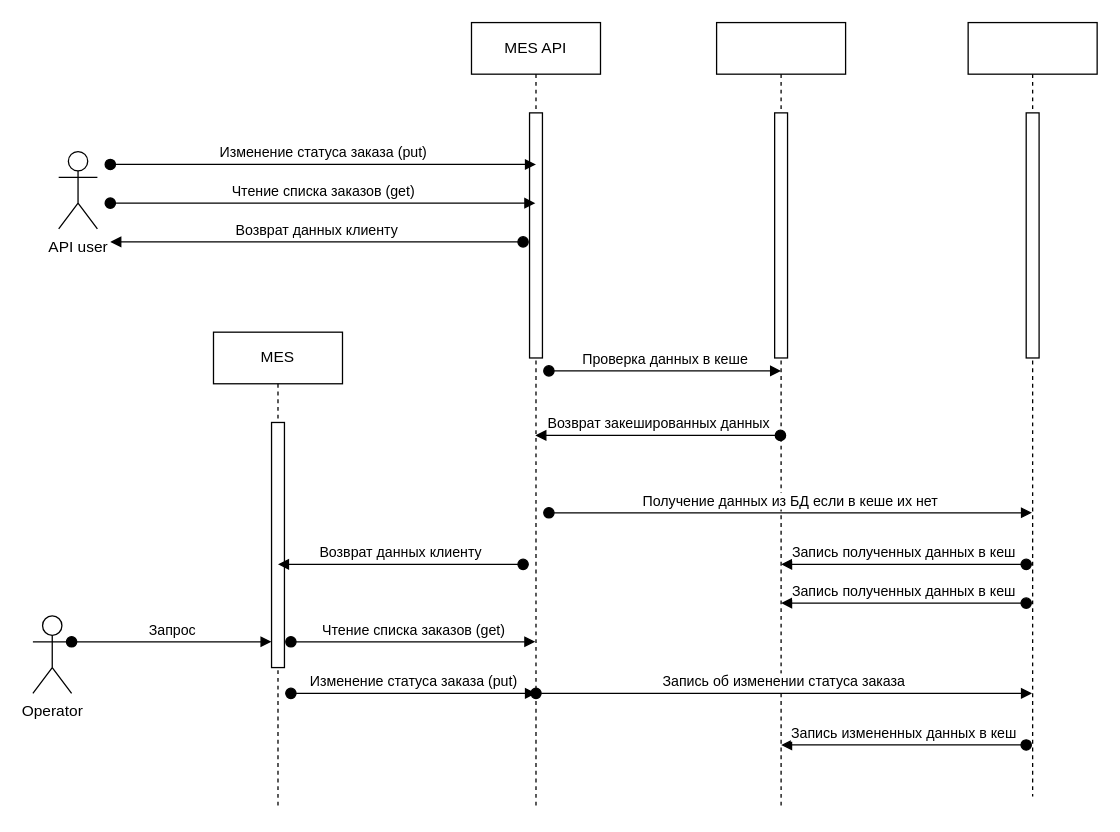
Image size: 1120x832. Some labels were removed from this diagram. The shapes that lost their labels are listed below. From the top down, each one's box as (x1, y1, x2, y2) in pixels, then its label:
(715, 21, 846, 809): Cache
(967, 21, 1097, 797): MES DB
